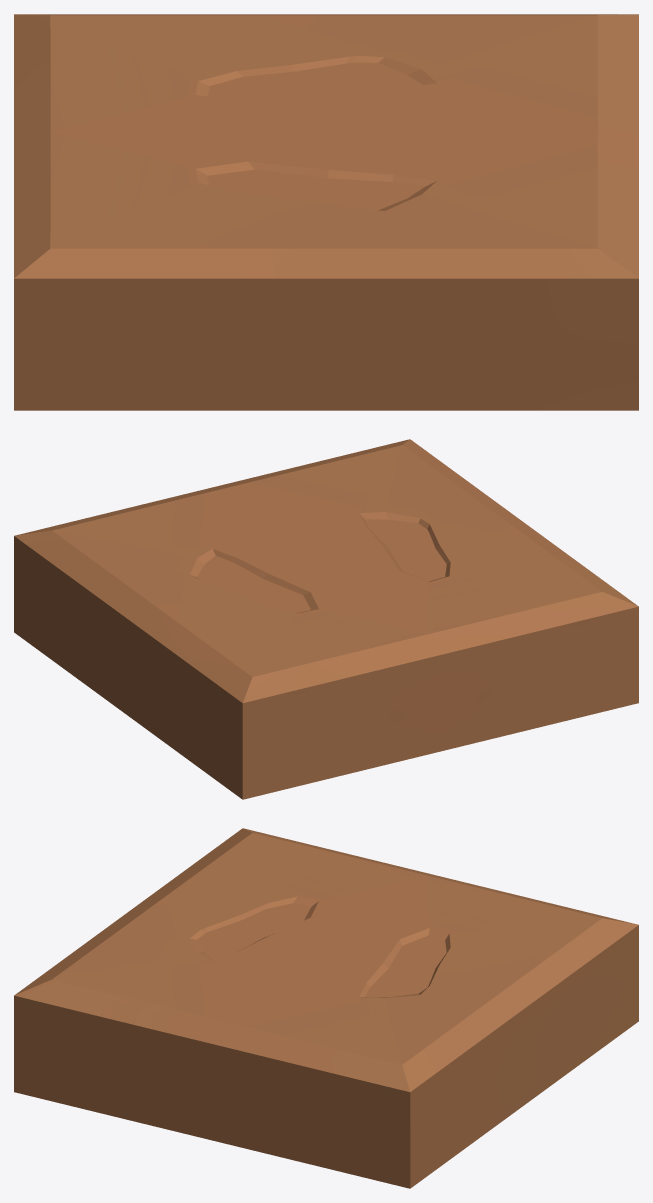
Rendered from lvl1_P_switch3.glb.
3 renders of one model, top to bottom at view 1: azimuth 30°, elevation 25°; view 2: azimuth 150°, elevation 25°; view 3: azimuth 270°, elevation 25°, orthographic. The views are drawn at different scales.
Parts seen in each view (by area): view 1: lvl1_p_switch3; view 2: lvl1_p_switch3; view 3: lvl1_p_switch3.
Part boxes in pixels (x1=…): lvl1_p_switch3: x1=14, y1=14, x2=638, y2=410; lvl1_p_switch3: x1=14, y1=439, x2=638, y2=799; lvl1_p_switch3: x1=14, y1=828, x2=638, y2=1188.
Bounding box in the file's own units: 1.19 × 0.2256 × 1.19.
1 material, 1 textured.
